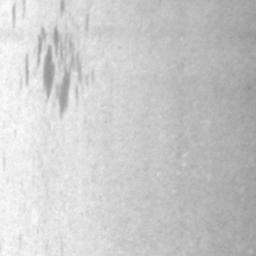Inclusion: (42, 45, 56, 99), (58, 70, 72, 118)
